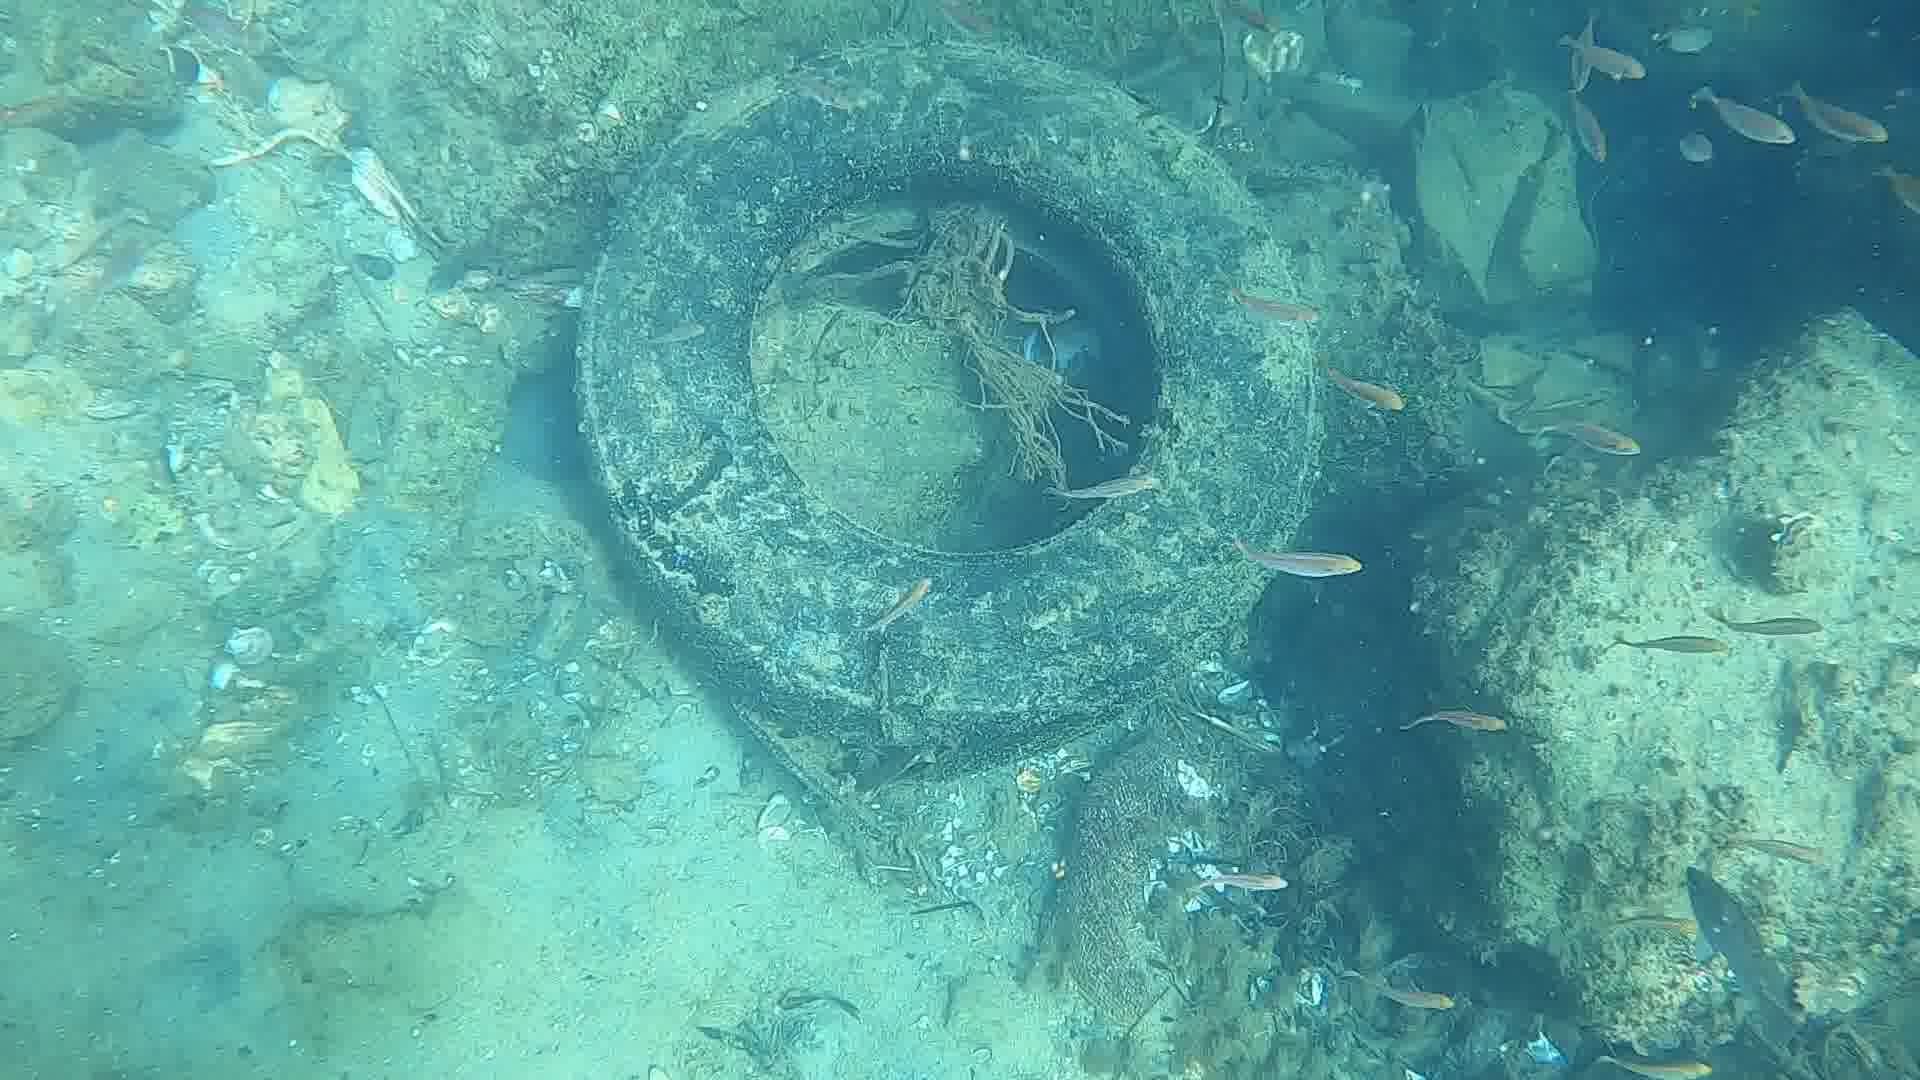tire: (574, 40, 1324, 761)
